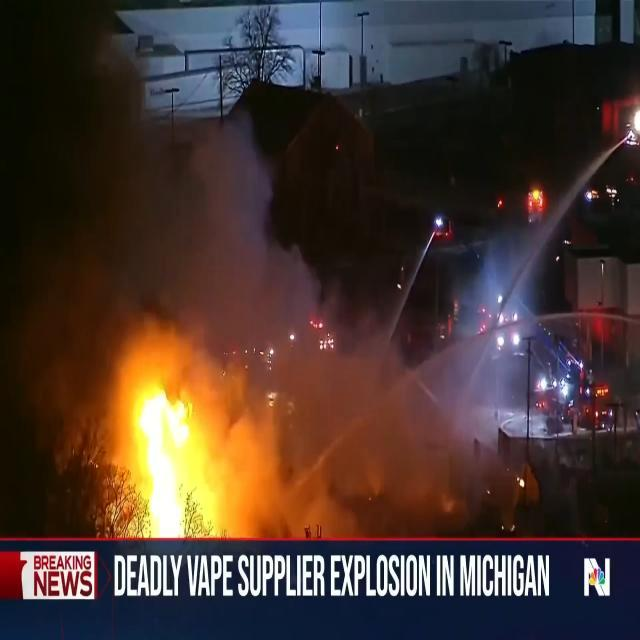fire: (127, 379, 225, 537)
